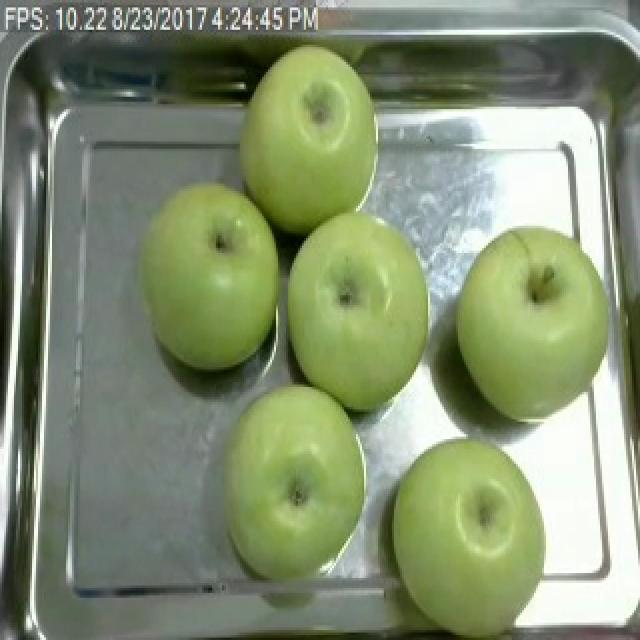50-_ripeness: (452, 224, 612, 419), (218, 385, 366, 582), (394, 451, 554, 628), (143, 185, 279, 385), (289, 210, 429, 396), (240, 43, 386, 208)
